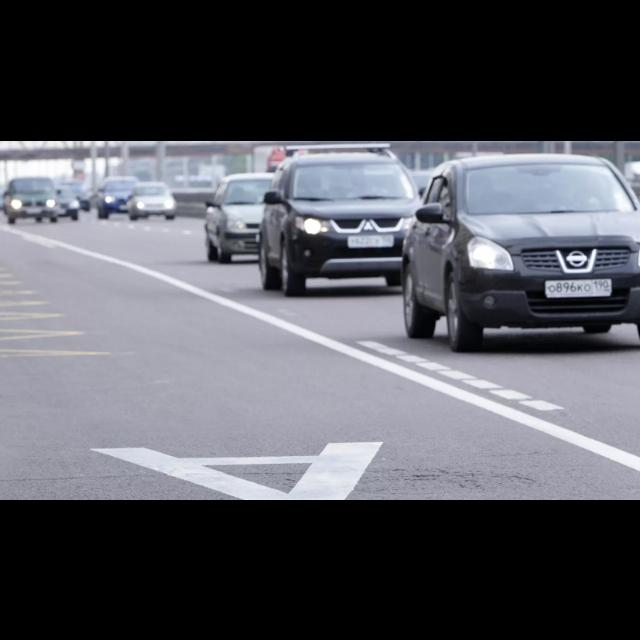road: (0, 214, 639, 499)
